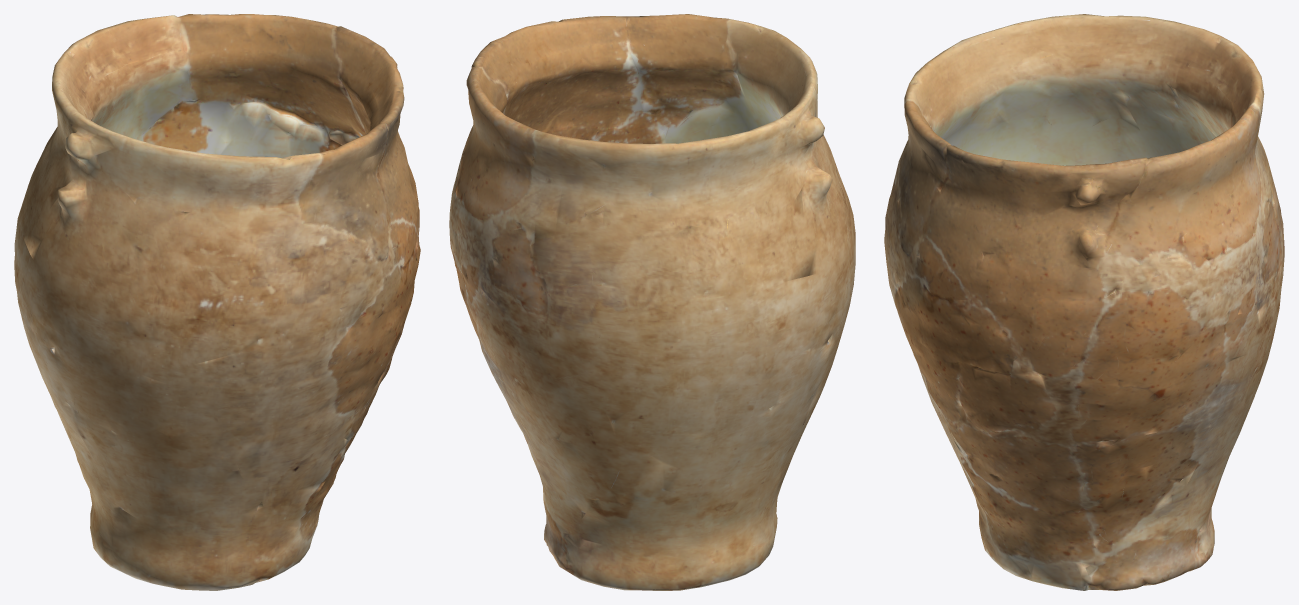
3 renders of one model, left to right at view 1: azimuth 30°, elevation 25°; view 2: azimuth 150°, elevation 25°; view 3: azimuth 270°, elevation 25°, orthographic.
Visible parts, largest first — view 1: NM0168.low; view 2: NM0168.low; view 3: NM0168.low.
Boxes of the visible parts, x1,y1,x2,y2 form: NM0168.low: (14, 14, 420, 590); NM0168.low: (449, 14, 855, 590); NM0168.low: (884, 14, 1284, 590).
Size of the model in its own units: 223 by 282 by 215.
Materials: 1 (1 with a texture image).
